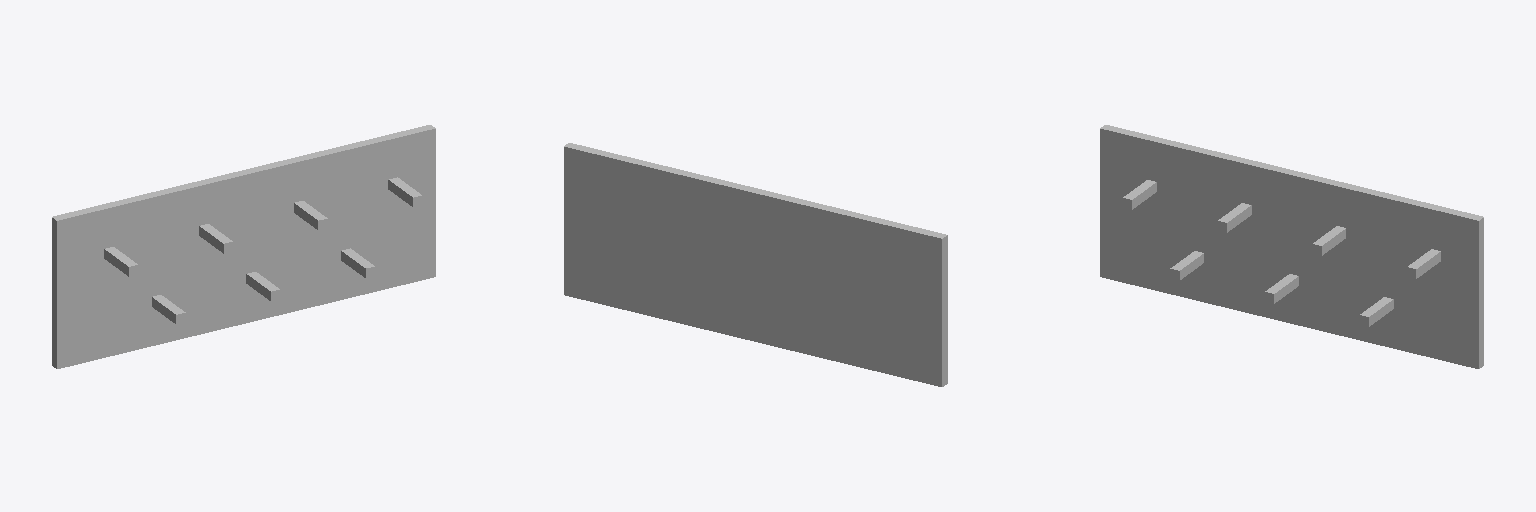
Rendered from Peg.obj.
3 views of the same model, side by side, from view 1: azimuth 30°, elevation 25°; view 2: azimuth 150°, elevation 25°; view 3: azimuth 330°, elevation 25° (orthographic).
Parts seen in each view (by area): view 1: Peg; view 2: Peg; view 3: Peg.
Part boxes in pixels (left/top/right/bottom): Peg: left=52, top=125, right=435, bottom=368; Peg: left=564, top=143, right=947, bottom=386; Peg: left=1100, top=125, right=1483, bottom=368.
Size of the model in its own units: 80 by 30 by 11.